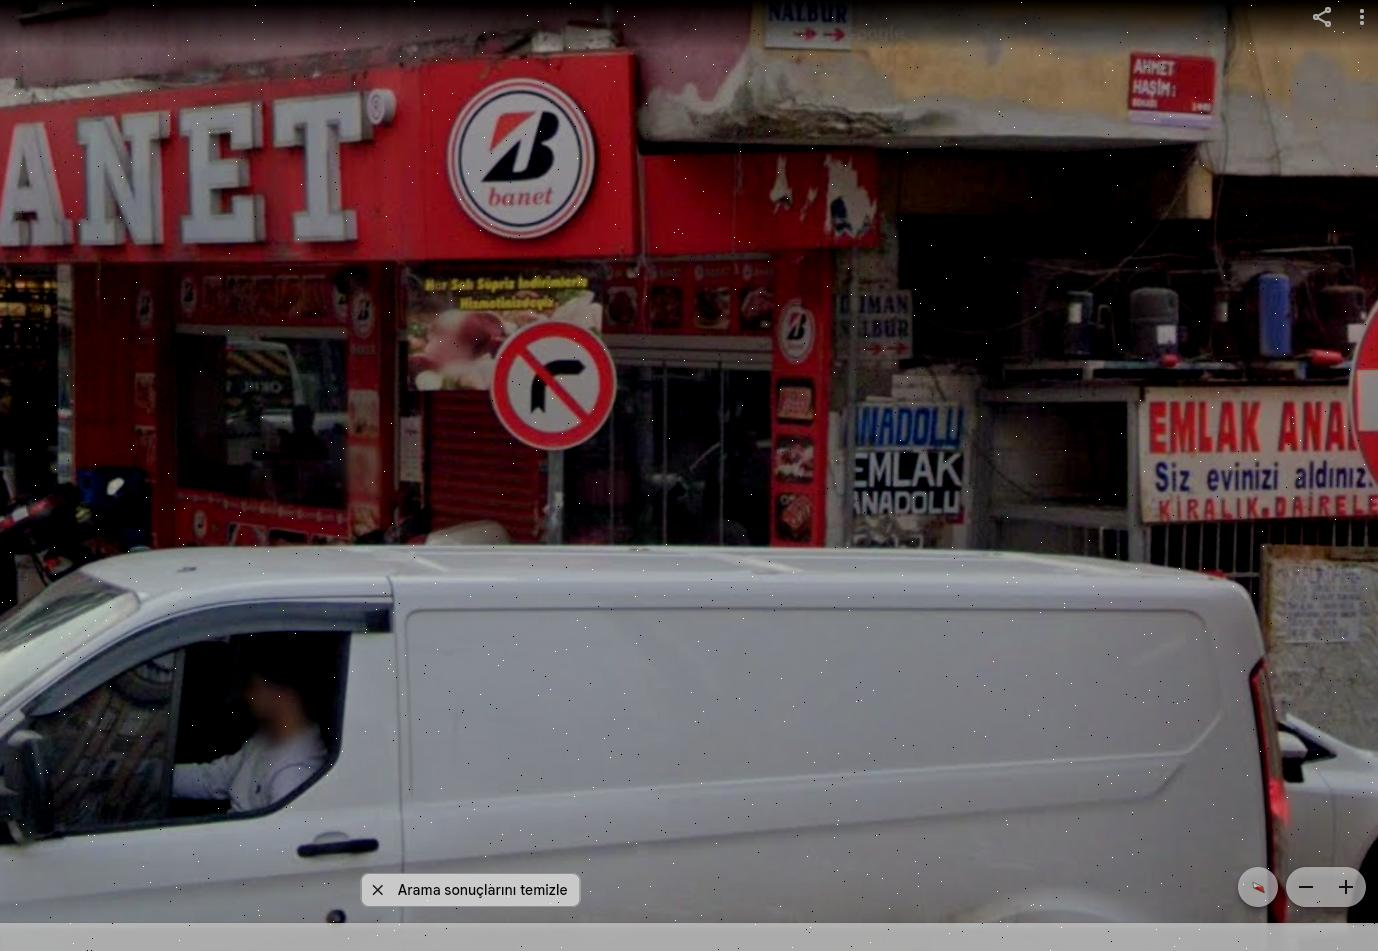rightturnsareforbidden: (488, 322, 624, 455)
